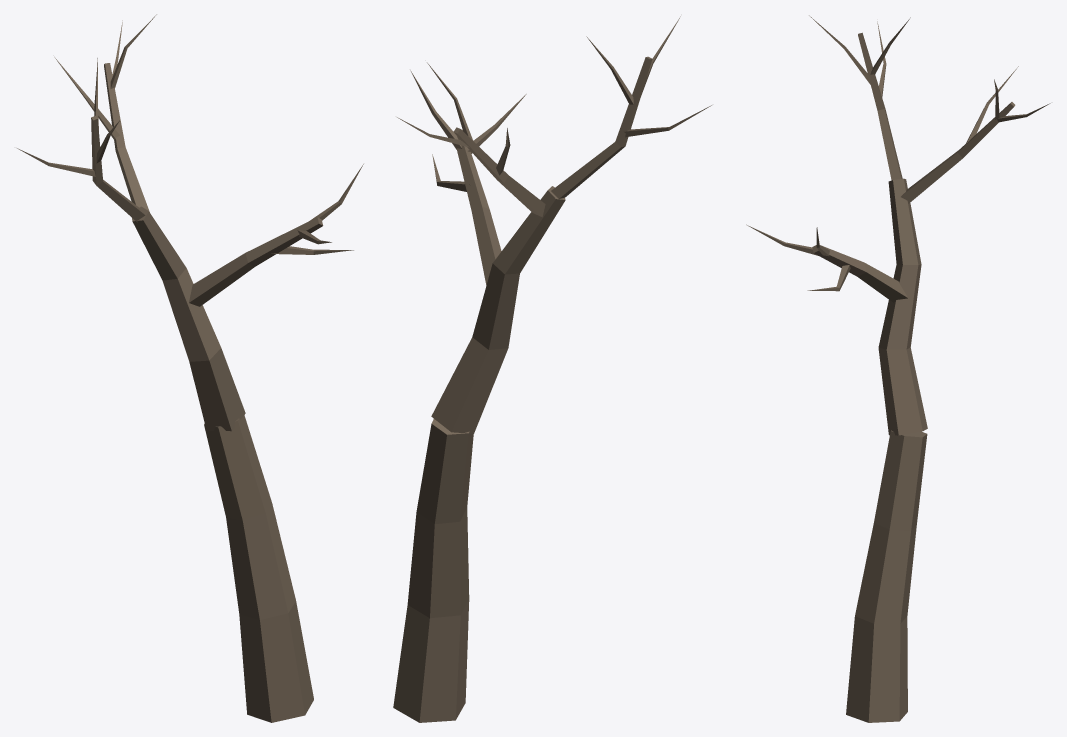
Rendered from Tree_Dead_B.glb.
3 renders of one model, left to right at view 1: azimuth 30°, elevation 25°; view 2: azimuth 150°, elevation 25°; view 3: azimuth 270°, elevation 25°, orthographic. The views are drawn at different scales.
Visible parts, largest first — view 1: Tree_Dead_B; view 2: Tree_Dead_B; view 3: Tree_Dead_B.
Boxes of the visible parts, x1,y1,x2,y2 form: Tree_Dead_B: [17, 14, 363, 722]; Tree_Dead_B: [393, 16, 711, 722]; Tree_Dead_B: [746, 15, 1050, 722].
Bounding box in the file's own units: 2.1 × 4.31 × 1.92.
